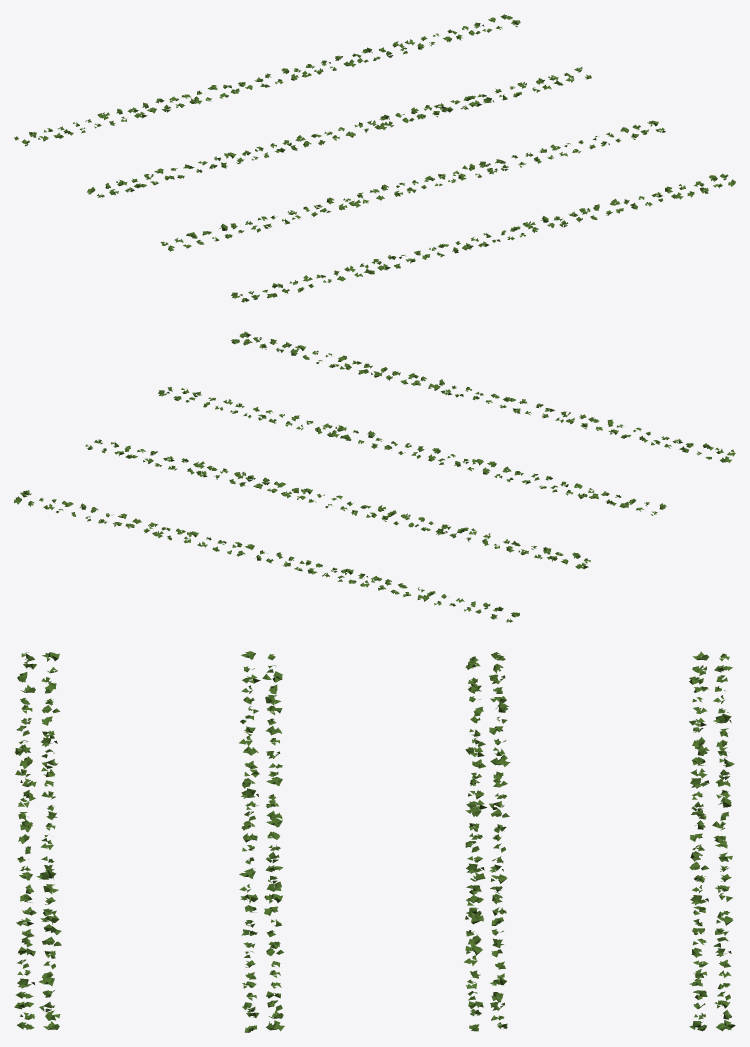
File: pole_brambory_male.glb
The picture shows the model from 3 angles, top to bottom: view 1: azimuth 30°, elevation 25°; view 2: azimuth 150°, elevation 25°; view 3: azimuth 270°, elevation 25°; orthographic projection. The views are drawn at different scales.
Visible parts, largest first — view 1: trs.15408; view 2: trs.15408; view 3: trs.15408.
Boxes of the visible parts, box(x1,y1,x2,y2) form: trs.15408: box(14, 14, 735, 302); trs.15408: box(14, 331, 735, 622); trs.15408: box(14, 651, 735, 1032).
Size of the model in its own units: 14.74 by 0.2186 by 11.9.
1 material, 1 textured.
